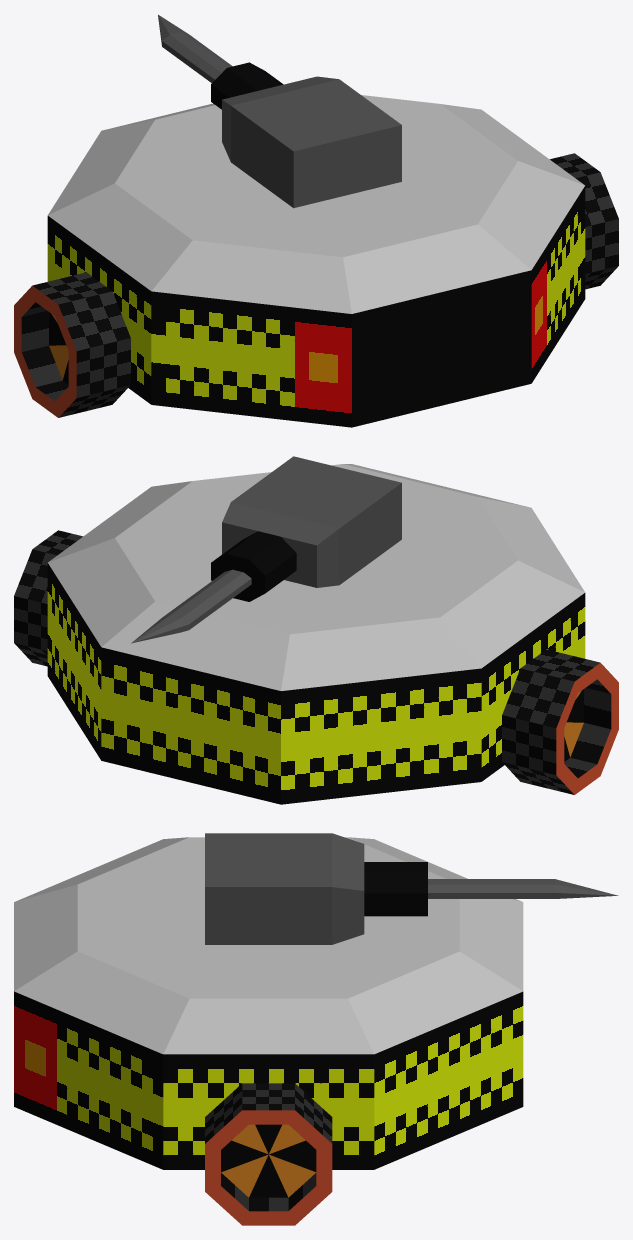
The model's file is knifebot.gltf.
3 views of the same model, one above another, from view 1: azimuth 30°, elevation 25°; view 2: azimuth 150°, elevation 25°; view 3: azimuth 270°, elevation 25° (orthographic).
Parts seen in each view (by area): view 1: cylinder, holder, wheel_left, wheel_right, body, handle; view 2: cylinder, holder, wheel_left, wheel_right, handle, body; view 3: cylinder, holder, wheel_right, handle, body.
Part boxes in pixels (x1,y1,x2,y2): cylinder: (47, 95, 585, 427); holder: (222, 76, 401, 208); wheel_left: (14, 272, 130, 417); wheel_right: (550, 153, 618, 289); body: (158, 14, 232, 82); handle: (211, 62, 283, 109); cylinder: (47, 464, 585, 804); holder: (222, 456, 401, 587); wheel_left: (502, 649, 618, 794); wheel_right: (14, 530, 82, 666); handle: (211, 531, 296, 601); body: (131, 569, 251, 643); cylinder: (14, 837, 523, 1169); holder: (205, 833, 364, 944); wheel_right: (205, 1083, 332, 1225); handle: (364, 862, 427, 916); body: (428, 879, 618, 898).
Size of the model in its own units: 1.25 by 0.5 by 1.19.
Materials: 3 (3 with a texture image).
